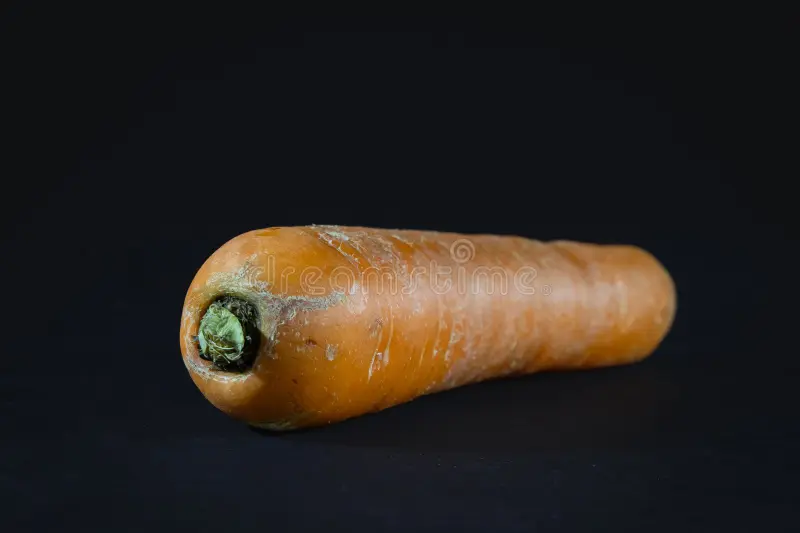carrot: (185, 180, 770, 460)
